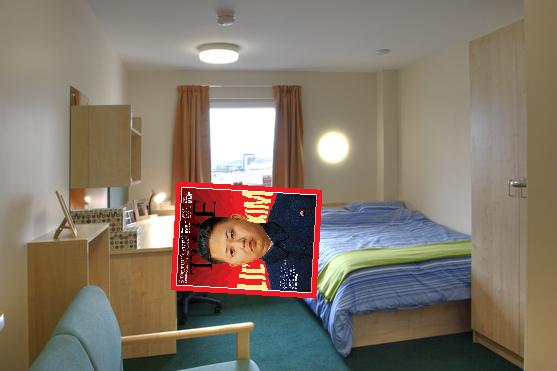times: (169, 182, 322, 300)
